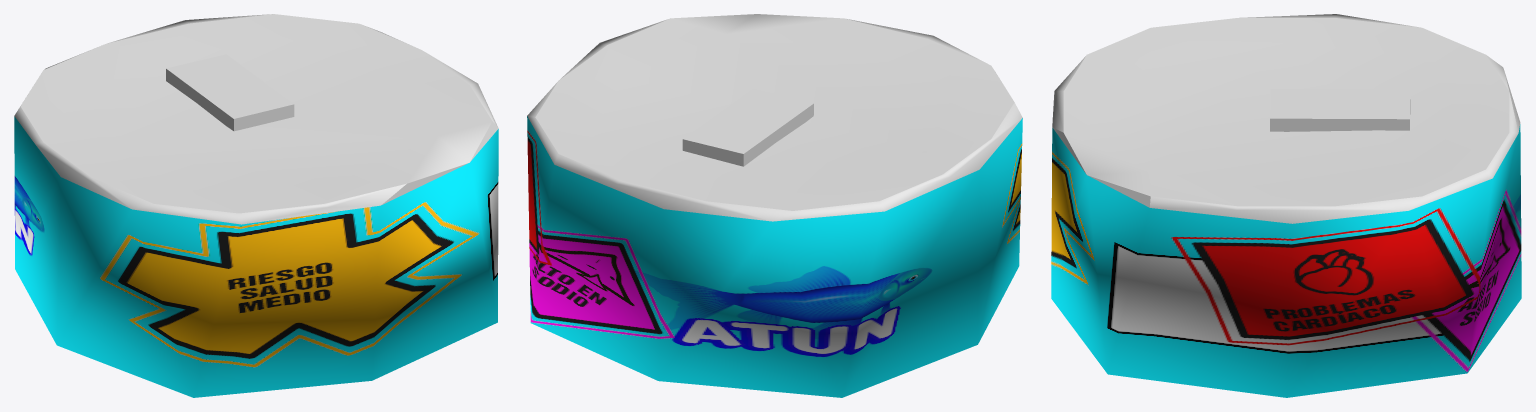
The model's file is Atun.fbx.
3 views of the same model, side by side, from view 1: azimuth 30°, elevation 25°; view 2: azimuth 150°, elevation 25°; view 3: azimuth 270°, elevation 25° (orthographic).
Visible parts, largest first — view 1: Cube; view 2: Cube; view 3: Cube.
Part boxes in pixels (x1=…): Cube: x1=14, y1=14, x2=498, y2=397; Cube: x1=527, y1=14, x2=1022, y2=397; Cube: x1=1051, y1=14, x2=1521, y2=397.
Size of the model in its own units: 16.03 by 7.32 by 16.03.
2 materials, 1 textured.
